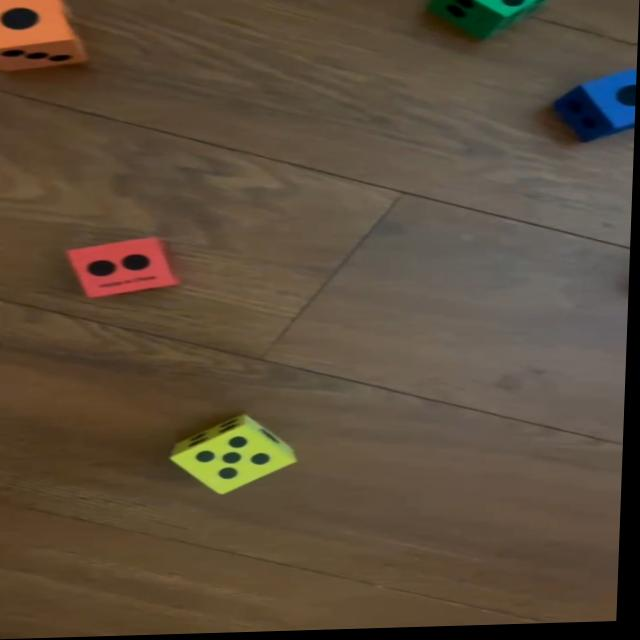blue_block: (556, 74, 637, 145)
red_block: (67, 235, 185, 299)
